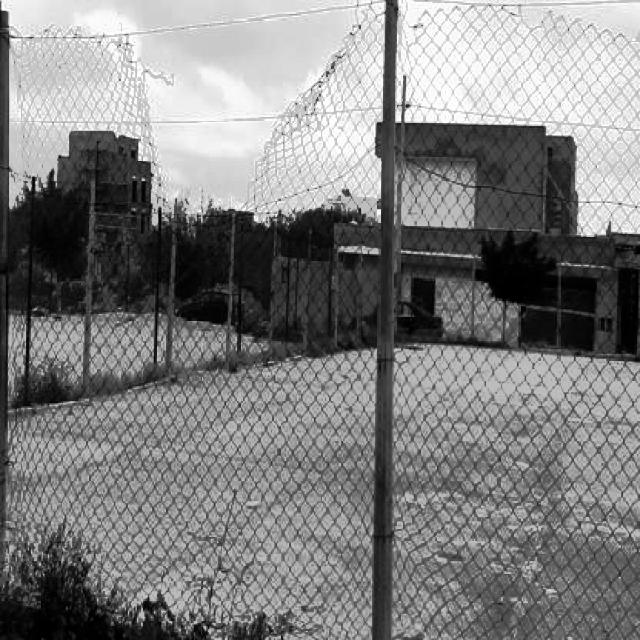anomaly-fence: (110, 10, 384, 223), (1, 0, 86, 563), (414, 8, 640, 58)
